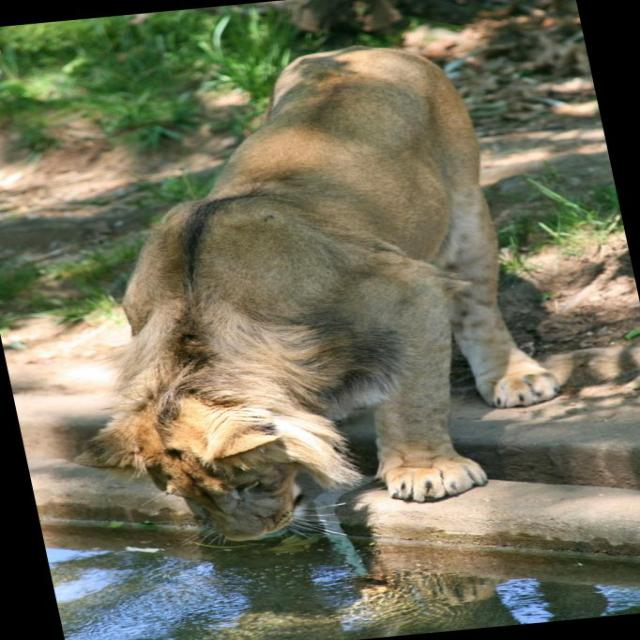Lion: (0, 32, 587, 562)
